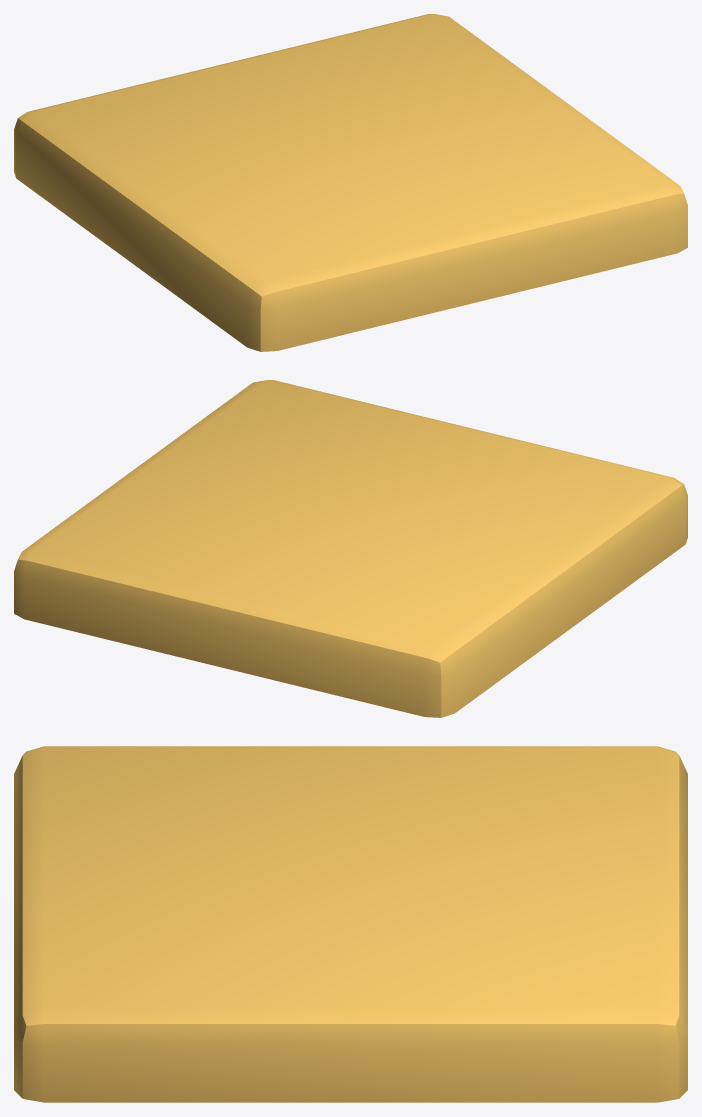
Rendered from Land_B.fbx.
The picture shows the model from 3 angles, top to bottom: view 1: azimuth 30°, elevation 25°; view 2: azimuth 150°, elevation 25°; view 3: azimuth 270°, elevation 25°; orthographic projection. The views are drawn at different scales.
Visible parts, largest first — view 1: Land_B; view 2: Land_B; view 3: Land_B.
Part boxes in pixels (bbox=[...]): Land_B: bbox=[14, 14, 687, 351]; Land_B: bbox=[14, 380, 687, 717]; Land_B: bbox=[14, 746, 687, 1102].
Size of the model in its own units: 600 by 81.23 by 600.
